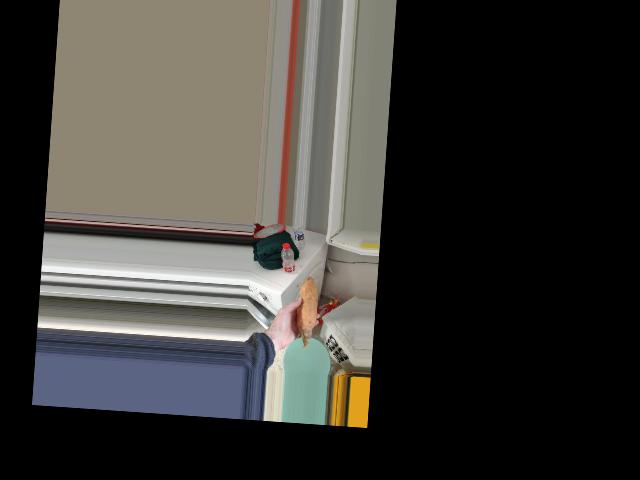sweet_potato: (296, 285, 315, 338)
